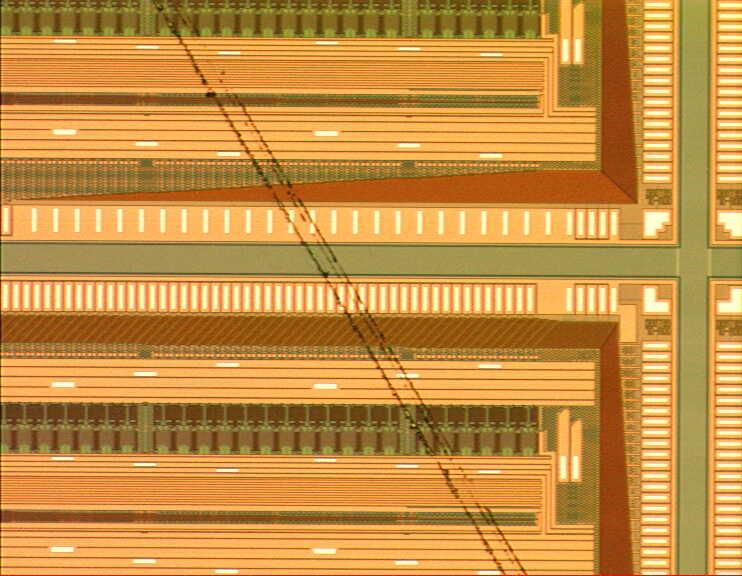SCRATCH: (134, 1, 557, 576)
